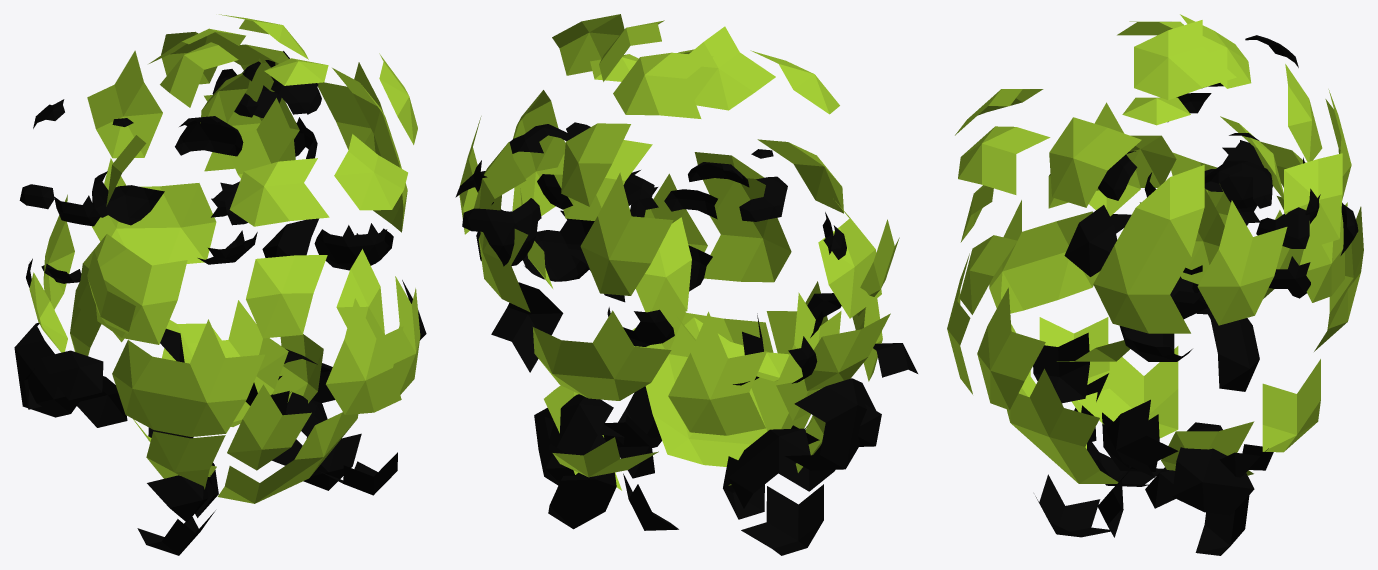
Rendered from explode.f0003.glb.
3 renders of one model, left to right at view 1: azimuth 30°, elevation 25°; view 2: azimuth 150°, elevation 25°; view 3: azimuth 270°, elevation 25°, orthographic. The views are drawn at different scales.
Parts seen in each view (by area): view 1: Body.001; view 2: Body.001; view 3: Body.001.
Boxes of the visible parts, left/top/right/bottom form: Body.001: left=14, top=14, right=426, bottom=555; Body.001: left=455, top=14, right=917, bottom=555; Body.001: left=947, top=14, right=1363, bottom=555.
Size of the model in its own units: 3.28 by 4.08 by 3.03.
1 material, 1 textured.
